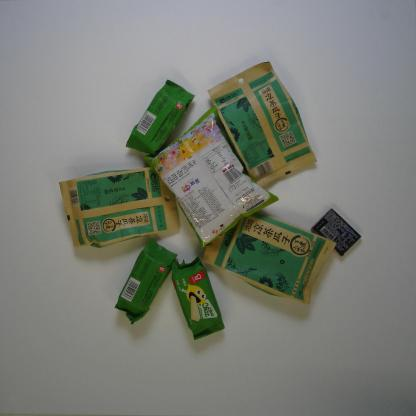Dessert: (124, 76, 199, 158), (114, 235, 178, 326), (169, 255, 226, 342)
Dried Food: (204, 61, 319, 190), (200, 204, 338, 306), (57, 159, 182, 249)
Gum: (307, 208, 364, 260)
Puffed Food: (144, 102, 282, 249)
